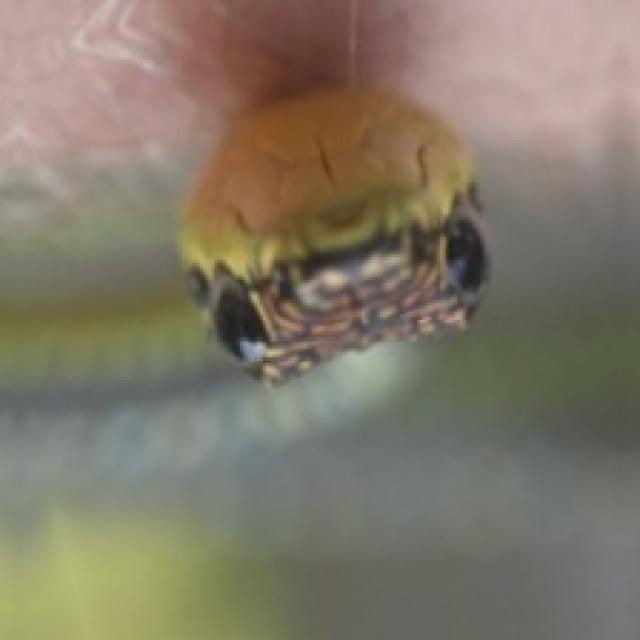paradise tree snake: (0, 0, 486, 380)
